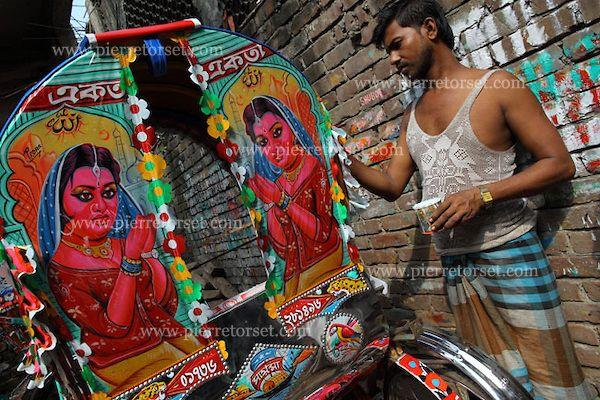Rickshaw: (0, 20, 528, 399)
